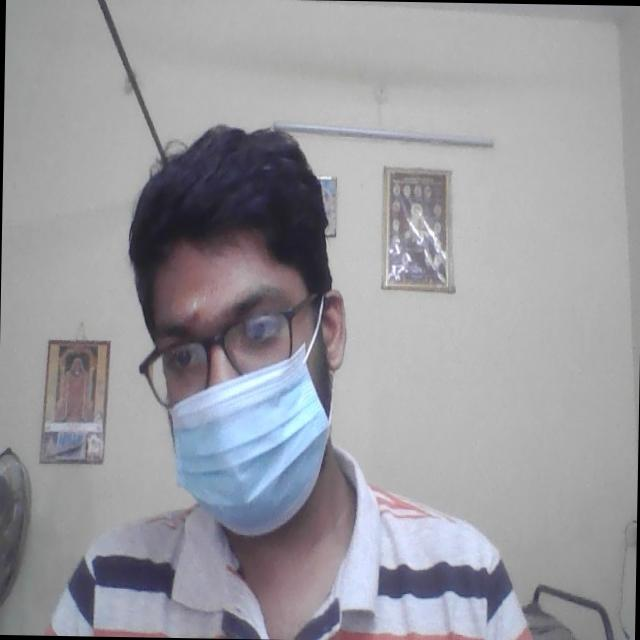Focused: (140, 253, 330, 510)
